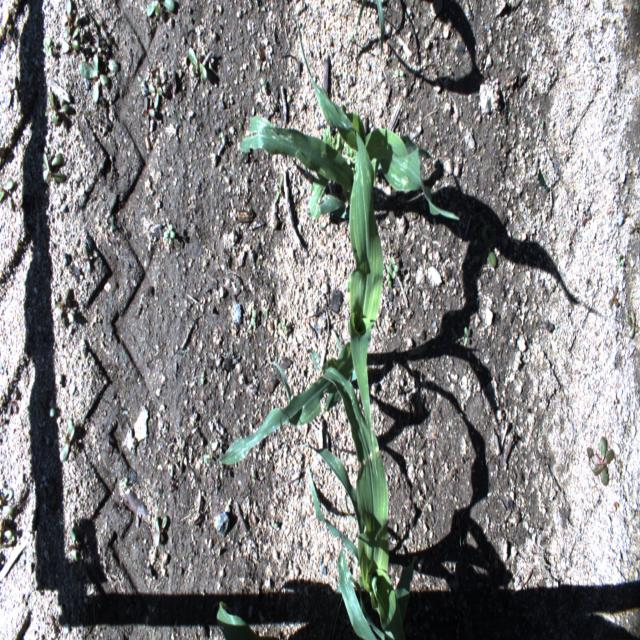crop: (210, 17, 383, 480), (239, 64, 461, 220), (303, 346, 420, 638), (215, 599, 281, 640), (356, 0, 385, 65)
weed: (321, 125, 378, 187), (79, 54, 111, 104), (586, 436, 615, 486), (41, 152, 68, 187), (478, 223, 498, 270), (187, 46, 213, 80), (44, 91, 69, 126), (55, 287, 75, 328), (36, 390, 58, 426), (237, 125, 253, 171), (58, 424, 76, 463), (339, 271, 359, 306), (97, 49, 120, 76), (60, 26, 81, 55), (62, 417, 78, 454), (147, 75, 164, 109), (6, 74, 22, 110), (146, 0, 176, 18), (154, 514, 169, 548), (68, 527, 82, 563), (1, 23, 17, 52), (144, 95, 156, 132), (0, 178, 14, 209), (0, 520, 16, 547), (0, 486, 14, 516), (626, 309, 639, 339), (456, 514, 464, 560), (62, 0, 72, 36), (97, 28, 115, 48), (5, 390, 18, 416), (607, 284, 620, 310), (273, 174, 284, 202), (386, 256, 399, 279), (162, 223, 175, 245), (628, 218, 640, 241), (144, 65, 158, 84), (345, 492, 353, 524), (83, 246, 92, 273), (318, 222, 331, 239), (91, 35, 102, 54), (42, 38, 52, 58), (134, 74, 146, 90), (581, 211, 592, 227), (258, 76, 266, 96), (385, 317, 395, 333), (278, 319, 287, 336), (218, 128, 226, 147), (250, 306, 257, 327), (385, 271, 392, 290), (617, 252, 625, 268), (108, 216, 115, 234), (270, 518, 279, 532), (199, 369, 206, 386), (394, 68, 404, 78), (463, 326, 468, 346), (550, 283, 556, 293), (424, 538, 429, 549), (199, 590, 205, 598), (252, 472, 256, 484), (540, 118, 544, 130), (395, 81, 400, 90)
